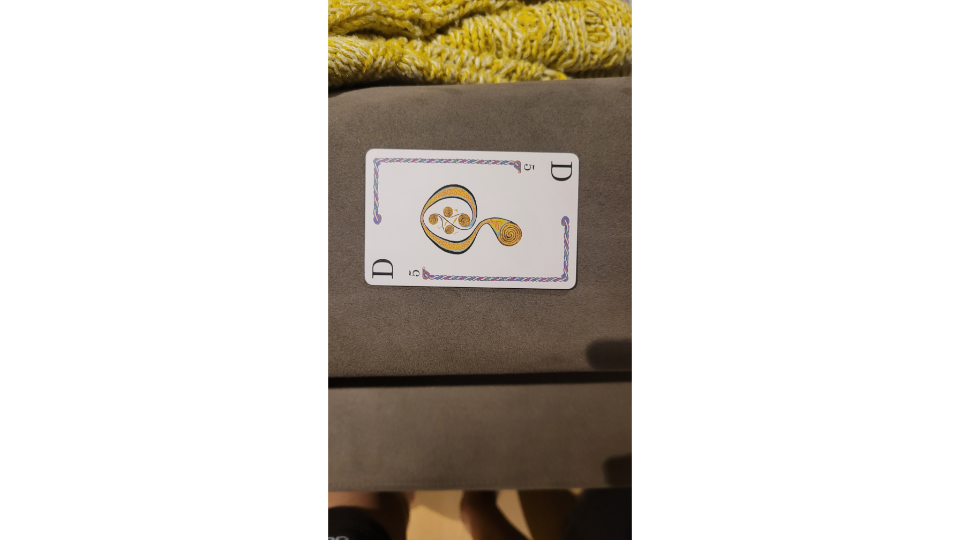D: (359, 143, 583, 296)
